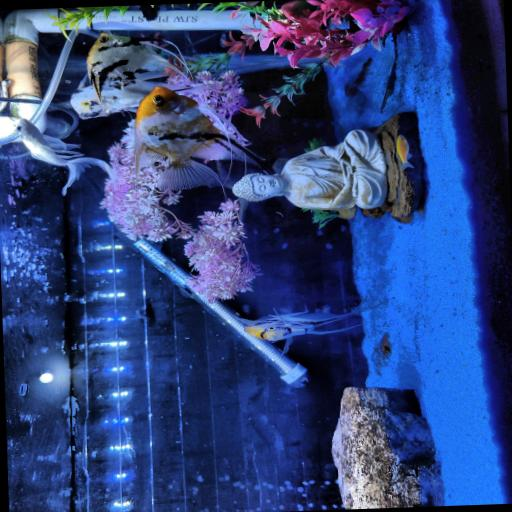Fish: (135, 86, 257, 189), (17, 118, 112, 193), (87, 32, 176, 106), (242, 309, 365, 353), (70, 75, 141, 117), (70, 75, 140, 117), (397, 134, 413, 168)
